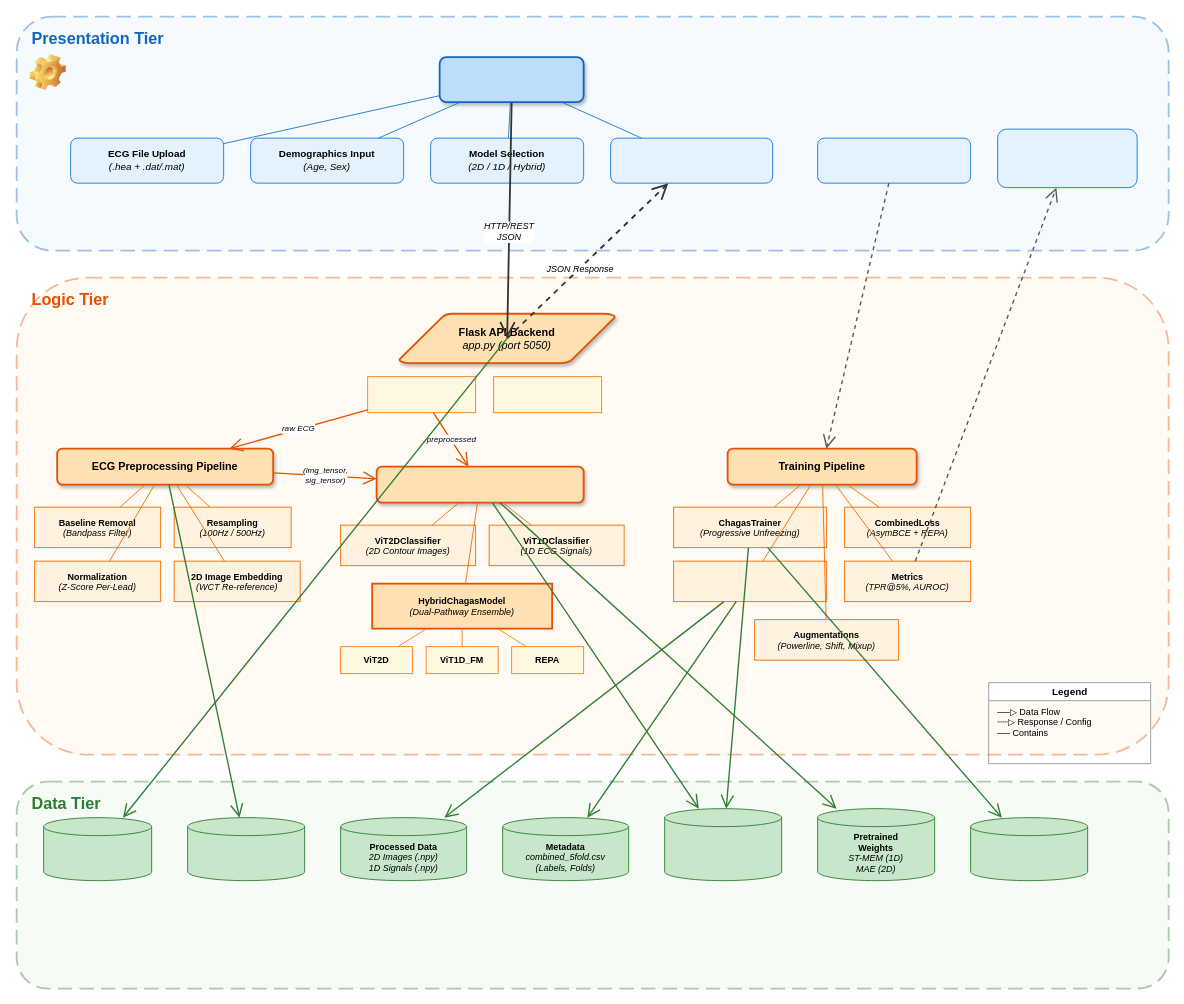
Image size: 1184x1004. Some labels were removed from this diagram. The centre of each missing label's shape, as x and y in pixels:
/api/health GET: pixel 547 394
/api/predict POST: pixel 421 394
ChagasDataset (Dual-Pathway Loader): pixel 750 581
ECG Upload Storage /uploads/: pixel 97 849
Model Checkpoints /checkpoints/ (.pt files): pixel 723 844
Model Inference Engine: pixel 481 485
Performance Metrics Display (TPR@5%, AUROC): pixel 1067 158
Raw ECG Data /data/raw/ (.hea + .dat): pixel 246 849
React Frontend (Vite + React): pixel 512 80
Results Display (Prediction, Probability): pixel 691 160
Training Config (CLI / Notebooks): pixel 894 160
Training Logs (Loss, Metrics per iteration): pixel 1029 849
